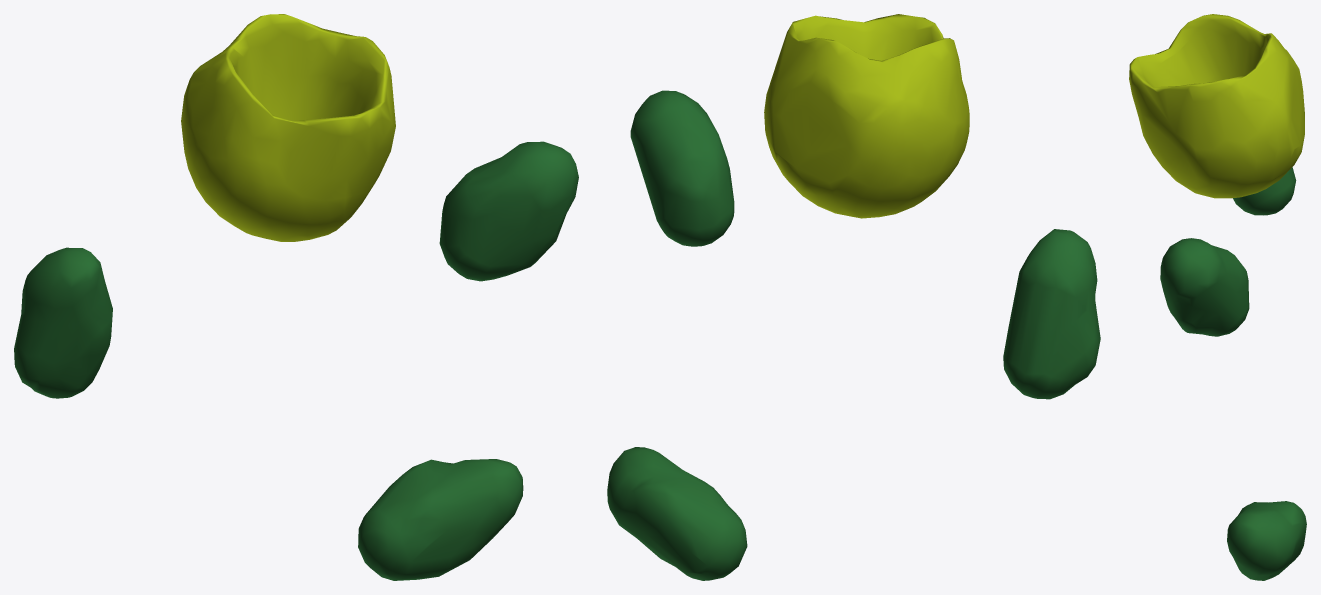
The model's file is ss_petals2.gltf.
3 renders of one model, left to right at view 1: azimuth 30°, elevation 25°; view 2: azimuth 150°, elevation 25°; view 3: azimuth 270°, elevation 25°, orthographic. The views are drawn at different scales.
Visible parts, largest first — view 1: Layer_1.001; view 2: Layer_1.001; view 3: Layer_1.001.
Boxes of the visible parts, x1,y1,x2,y2 form: Layer_1.001: (14,14,578,580); Layer_1.001: (607,14,1100,580); Layer_1.001: (1129,14,1306,580).
Size of the model in its own units: 1.03 by 1.13 by 0.3794.
